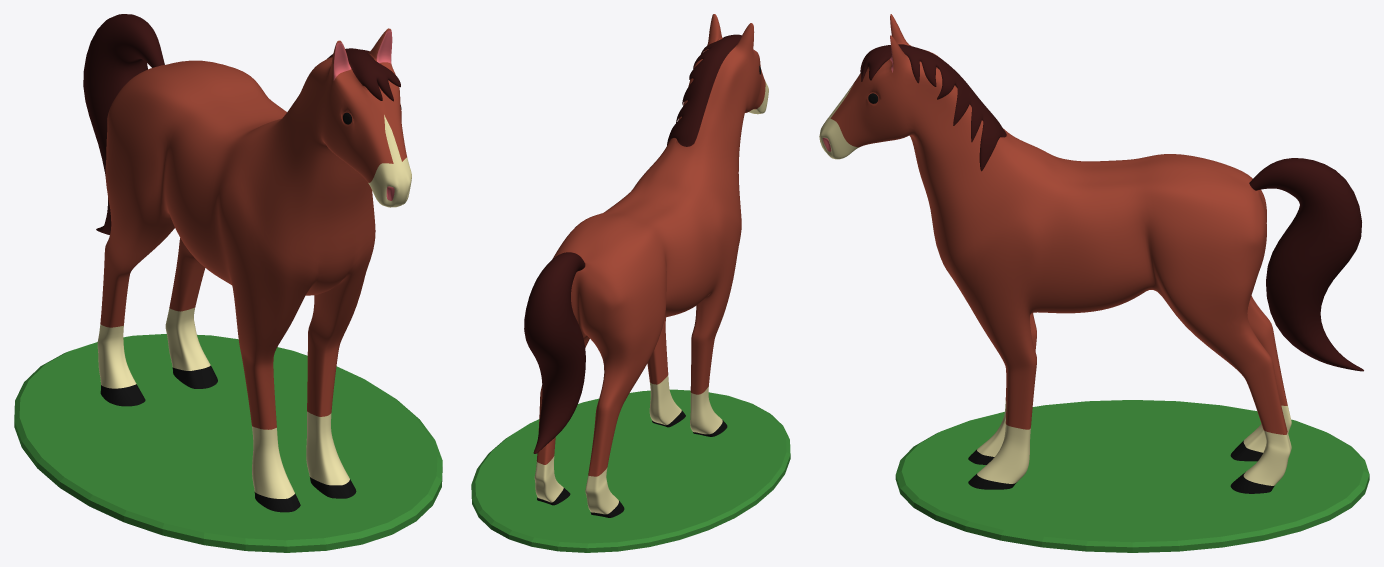
Rendered from horse.glb.
The picture shows the model from 3 angles, left to right: view 1: azimuth 30°, elevation 25°; view 2: azimuth 150°, elevation 25°; view 3: azimuth 270°, elevation 25°; orthographic projection. The views are drawn at different scales.
Parts seen in each view (by area): view 1: Cube.001, Circle.001; view 2: Cube.001, Circle.001; view 3: Cube.001, Circle.001.
Part boxes in pixels (bbox=[...]): Cube.001: bbox=[83, 14, 411, 512]; Circle.001: bbox=[14, 334, 442, 552]; Cube.001: bbox=[524, 14, 768, 517]; Circle.001: bbox=[471, 389, 790, 552]; Cube.001: bbox=[819, 14, 1363, 493]; Circle.001: bbox=[895, 400, 1369, 552].
Size of the model in its own units: 38 by 55.2 by 60.52.
